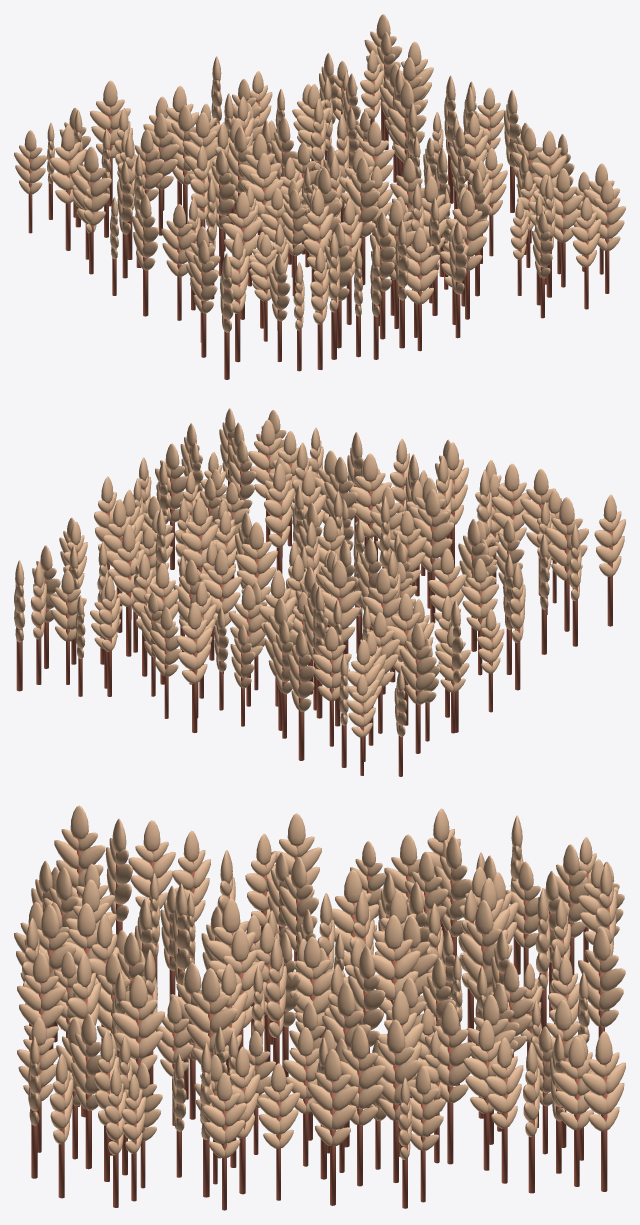
The model's file is Wheat_Smallest.fbx.
3 views of the same model, one above another, from view 1: azimuth 30°, elevation 25°; view 2: azimuth 150°, elevation 25°; view 3: azimuth 270°, elevation 25° (orthographic). The views are drawn at different scales.
Parts seen in each view (by area): view 1: Wheat_Smallest; view 2: Wheat_Smallest; view 3: Wheat_Smallest.
Boxes of the visible parts, x1,y1,x2,y2 form: Wheat_Smallest: [14, 14, 625, 379]; Wheat_Smallest: [14, 408, 625, 776]; Wheat_Smallest: [14, 805, 625, 1210].
Size of the model in its own units: 98.51 by 29.77 by 99.51.
